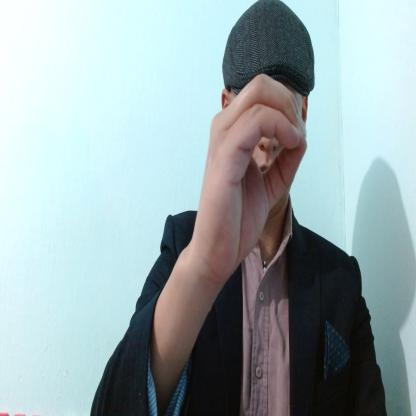O: (194, 70, 310, 268)
